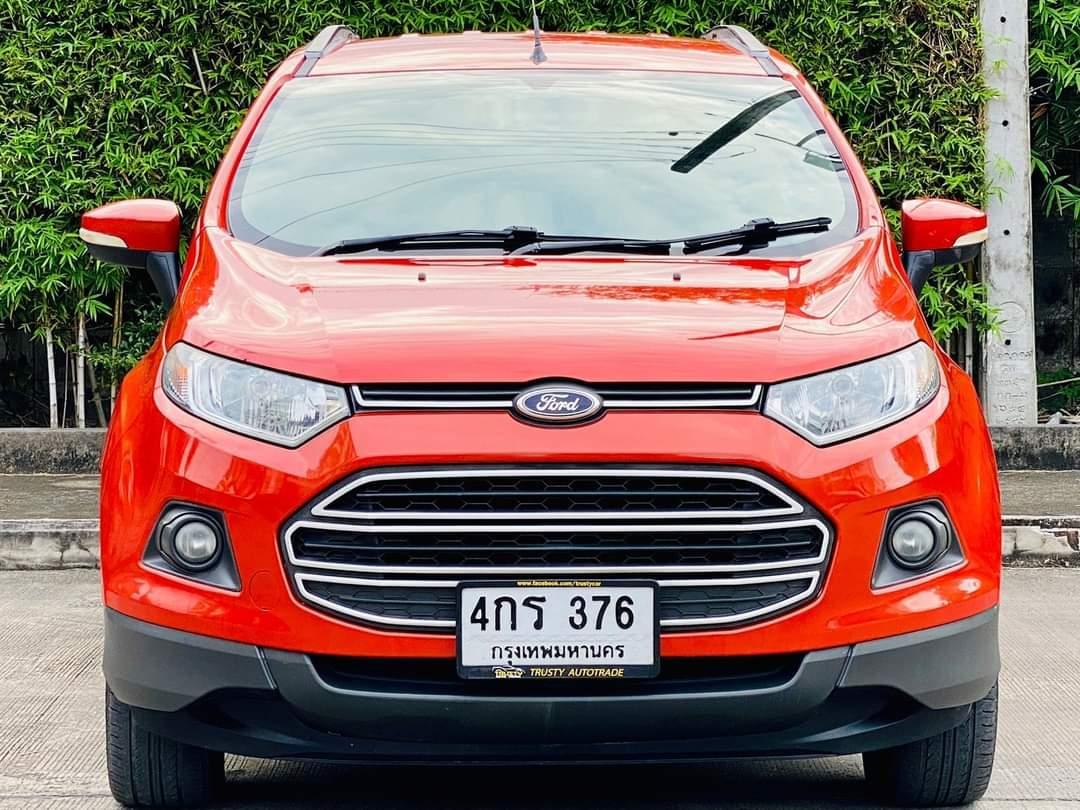license-plate: (455, 577, 665, 682)
